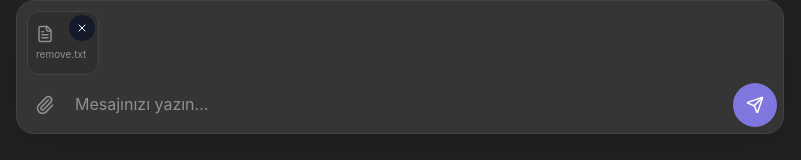
it: Composer › removes an attachment before sending
The width and height of the screenshot is (801, 160).
Earlier steps of the test are not shown.
What coordinates should you click on to do the following:
click the button named "remove.txt faylını sil"
I would click on:
 (82, 28)
Its box is [69,15,95,41].
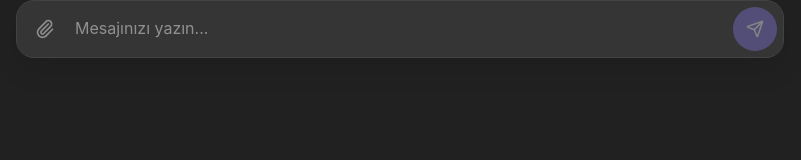
Expected: the text "remove.txt" is gone
Expected: the button named "Send message" is disabled, [733,7,777,51]
